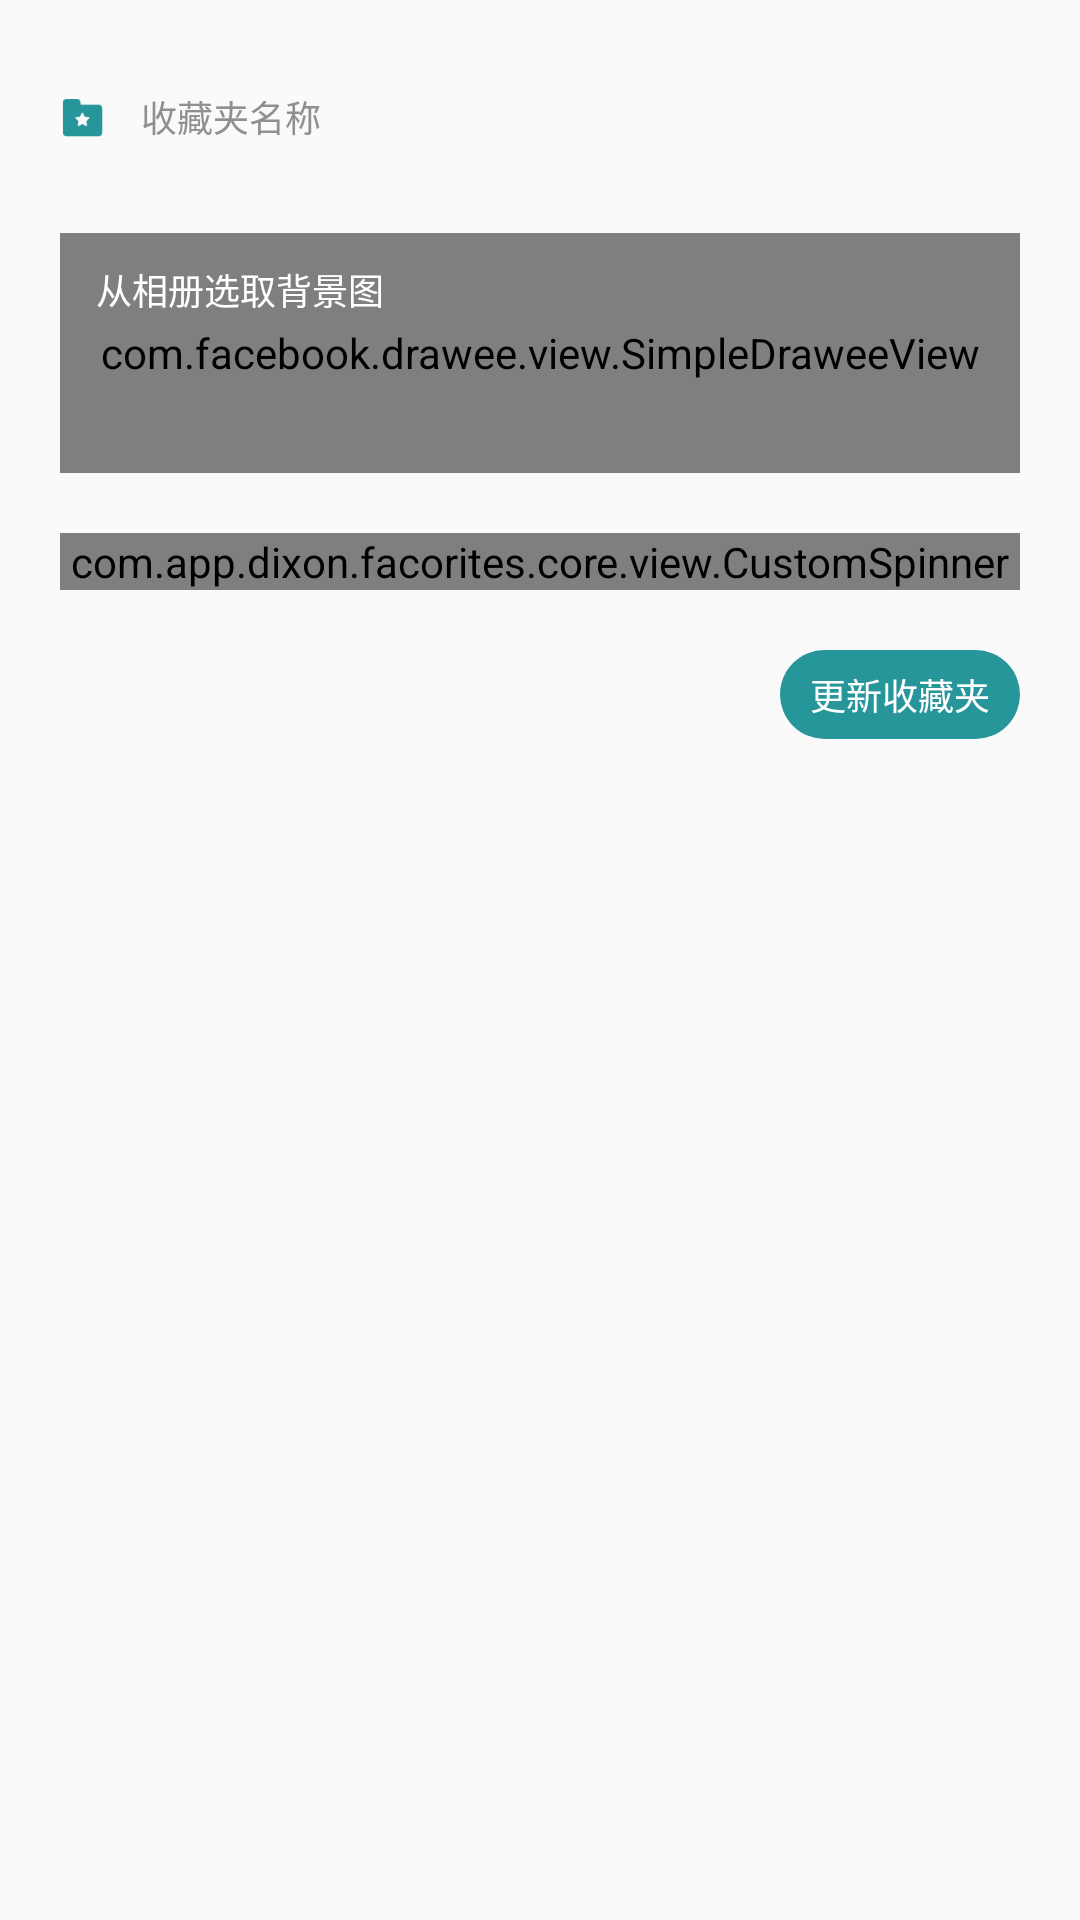

Screen size 1080w x 1920h. Icon name, then its box in pixels as (x1, y1, x2, y2):
dir: (63, 99, 103, 137)
